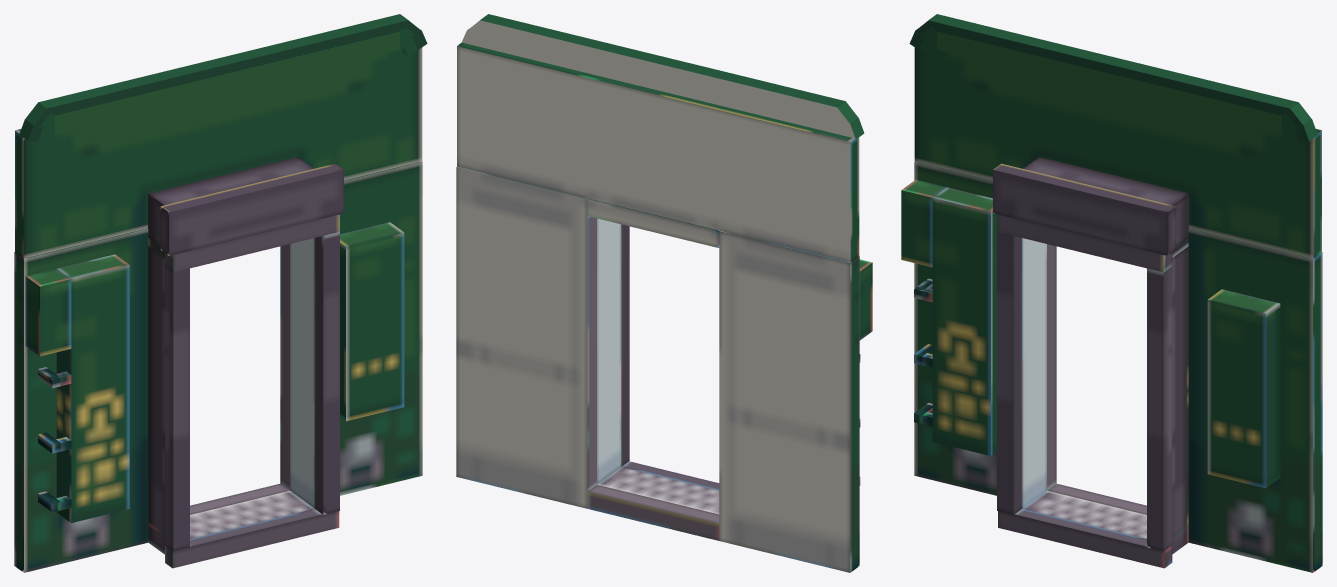
File: end_face_original_25b_2.obj
3 renders of one model, left to right at view 1: azimuth 30°, elevation 25°; view 2: azimuth 150°, elevation 25°; view 3: azimuth 330°, elevation 25°, orthographic.
Parts seen in each view (by area): view 1: cube; view 2: cube; view 3: cube.
Part boxes in pixels (left/top/right/bottom): cube: left=14, top=14, right=427, bottom=572; cube: left=456, top=14, right=872, bottom=572; cube: left=901, top=14, right=1322, bottom=572.
Bounding box in the file's own units: 3 × 3.32 × 0.5562.
